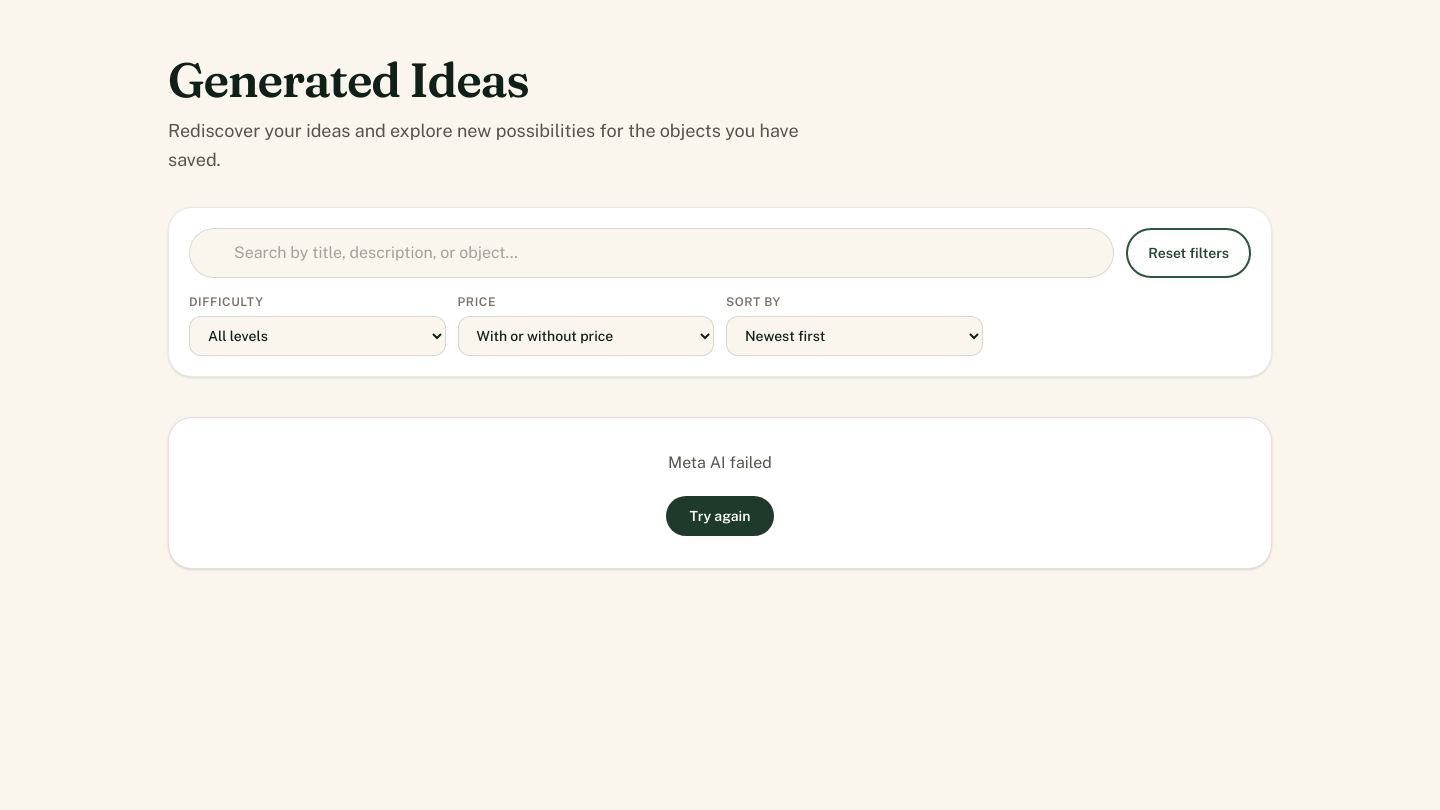
Test: GeneratedIdeas › shows an error with retry instead of fake data
This screenshot has width=1440, height=810.
Click the button "Try again" at (720,516), box [666, 496, 774, 536]
(page scrolled)
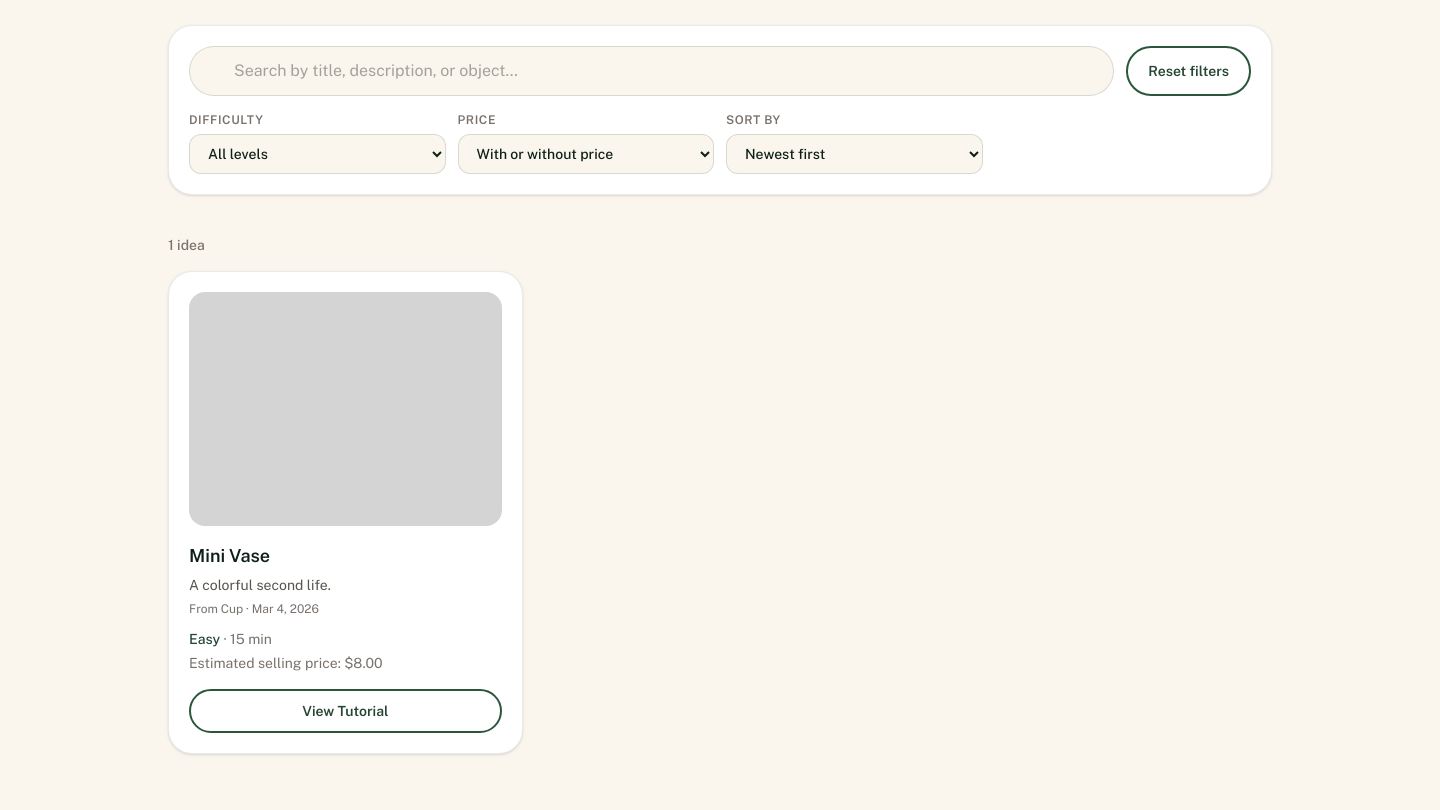
expect the element that starts with "Mini Vase" is shown: met, box [168, 270, 523, 754]
